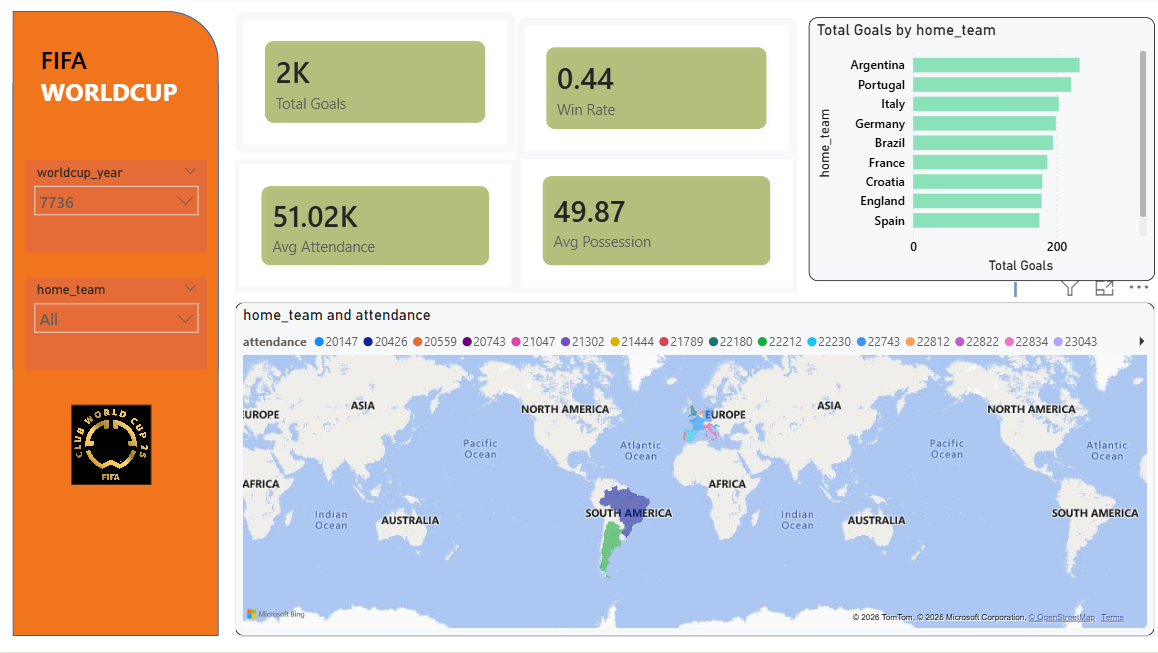

The dashboard page shown, as its layout file describes it:
{"tool":"powerbi","page":{"name":"Page 1","canvas":[1280,720],"ordinal":0},"visuals":[{"type":"cardVisual","fields":{"Data":["fifa_worldcup clean_fifa_data.Total Goals"]},"box":[258,16.5,308.7,156.4],"z":0},{"type":"cardVisual","fields":{"Data":["fifa_worldcup clean_fifa_data.Avg Attendance"]},"box":[258,179.8,308.7,145.5],"z":1000},{"type":"cardVisual","fields":{"Data":["fifa_worldcup clean_fifa_data.Avg Possession"]},"box":[566.7,168.8,308.7,156.4],"z":2000},{"type":"cardVisual","fields":{"Data":["fifa_worldcup clean_fifa_data.Win Rate"]},"box":[566.7,23.3,308.7,156.4],"z":3000},{"type":"filledMap","fields":{"Series":["fifa_worldcup clean_fifa_data.attendance"],"Category":["fifa_worldcup clean_fifa_data.home_team"]},"box":[258,336.2,1010,366.4],"z":4000},{"type":"clusteredBarChart","fields":{"Category":["fifa_worldcup clean_fifa_data.home_team"],"Y":["fifa_worldcup clean_fifa_data.Total Goals"]},"box":[887.8,23.3,380.1,289.5],"z":5000},{"type":"shape","box":[13.7,16.5,226.4,686.1],"z":6000},{"type":"textbox","box":[39.8,46.7,163.3,109.8],"z":7000},{"type":"slicer","fields":{"Values":["fifa_worldcup clean_fifa_data.worldcup_year"]},"box":[27.4,179.8,200.3,101.5],"z":8000},{"type":"slicer","fields":{"Values":["fifa_worldcup clean_fifa_data.home_team"]},"box":[27.4,308.7,200.3,101.5],"z":9000},{"type":"image","box":[78.2,448.7,87.8,87.8],"z":10000}]}

Visuals, with their boxes in screenshot pixels (x1, y1, x2, y2), scaled from the page's 1280x720 canvas onto the 1158x653 screenshot:
cardVisual - fifa_worldcup clean_fifa_data.Total Goals: 233:15:513:157
cardVisual - fifa_worldcup clean_fifa_data.Avg Attendance: 233:163:513:295
cardVisual - fifa_worldcup clean_fifa_data.Avg Possession: 513:153:792:295
cardVisual - fifa_worldcup clean_fifa_data.Win Rate: 513:21:792:163
filledMap - fifa_worldcup clean_fifa_data.attendance x fifa_worldcup clean_fifa_data.home_team: 233:305:1147:637
clusteredBarChart - fifa_worldcup clean_fifa_data.home_team x fifa_worldcup clean_fifa_data.Total Goals: 803:21:1147:284
shape: 12:15:217:637
textbox: 36:42:184:142
slicer - fifa_worldcup clean_fifa_data.worldcup_year: 25:163:206:255
slicer - fifa_worldcup clean_fifa_data.home_team: 25:280:206:372
image: 71:407:150:487
